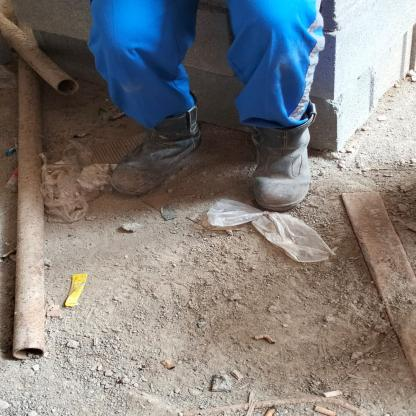bota: (104, 110, 208, 196), (249, 96, 320, 213)
